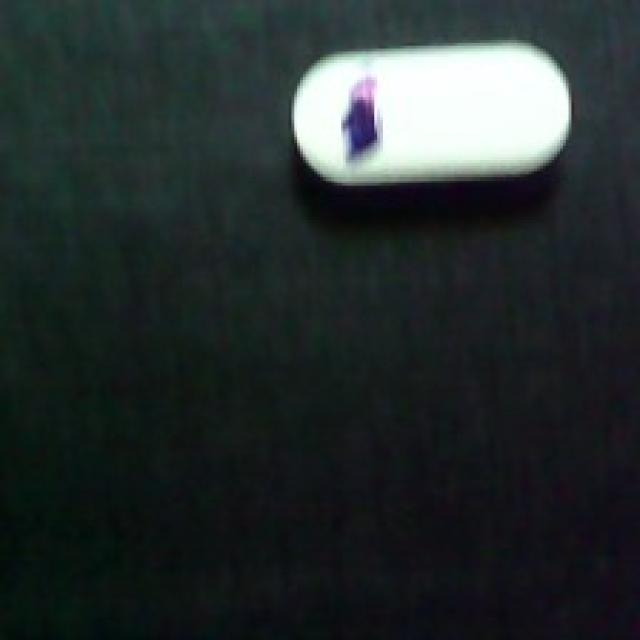defected: (286, 31, 583, 206)
